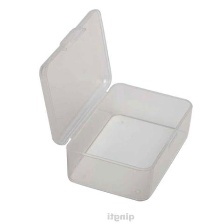plastic_box: (32, 4, 201, 208)
